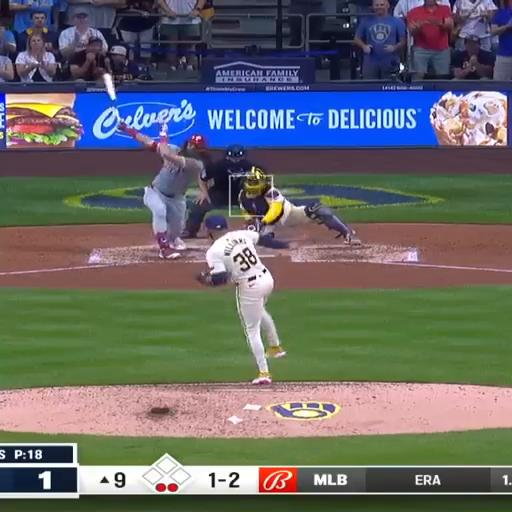bat: (103, 73, 120, 122)
